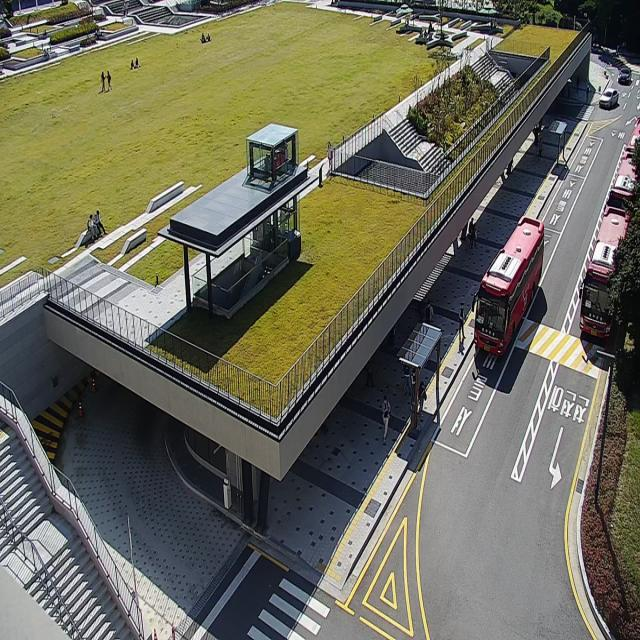queue: (410, 330, 442, 438)
